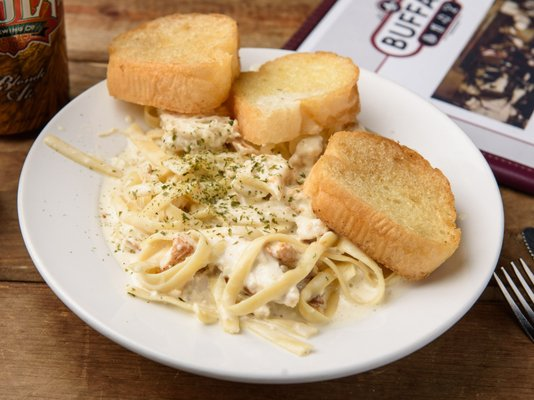burger: (494, 257, 534, 344)
pizza: (0, 1, 70, 137)
soup: (304, 126, 461, 284), (106, 11, 241, 117)
